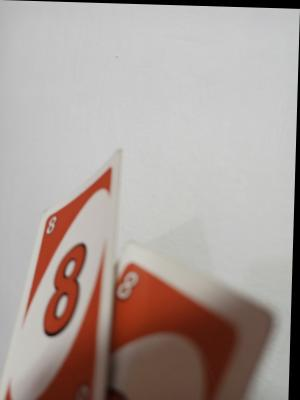num_8: (110, 268, 149, 307), (41, 209, 65, 239)
